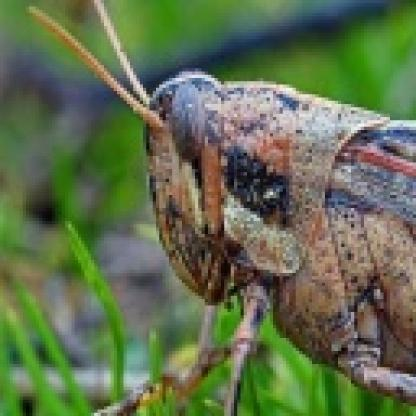grasshopper: (22, 0, 416, 416)
